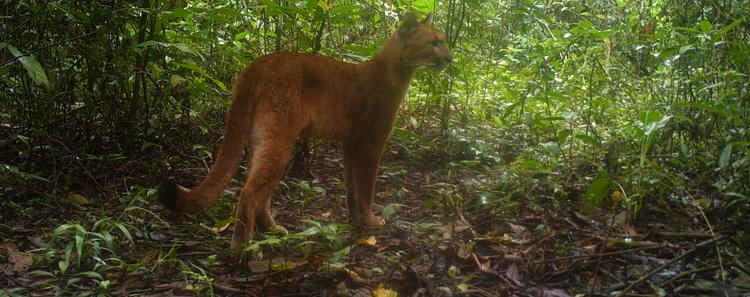OncaParda: (154, 10, 462, 265)
